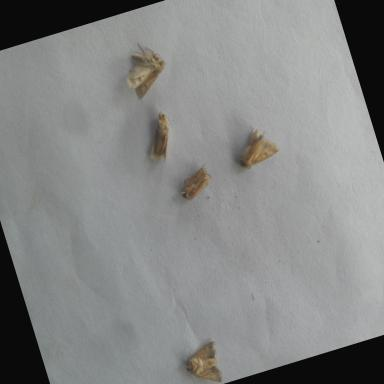abw: (111, 28, 178, 108), (225, 116, 286, 179), (133, 104, 187, 172), (172, 330, 233, 384), (169, 160, 219, 207)
